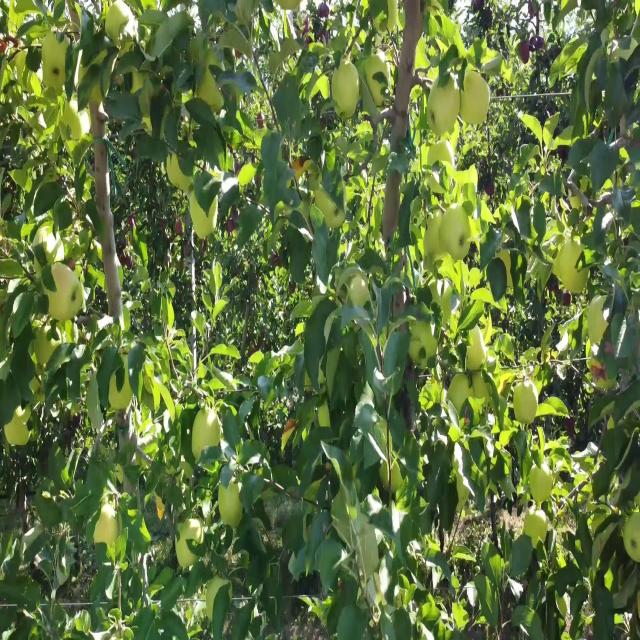apple: (48, 270, 84, 322), (460, 71, 491, 126), (332, 63, 360, 121), (196, 405, 223, 460), (432, 78, 460, 126), (196, 71, 224, 116), (4, 405, 31, 448), (220, 483, 244, 530), (168, 149, 193, 194), (192, 197, 218, 240), (588, 341, 616, 380), (468, 327, 492, 370), (96, 504, 120, 544), (112, 371, 133, 412), (368, 63, 387, 107), (108, 7, 132, 41), (348, 277, 371, 309), (368, 49, 387, 85), (441, 127, 460, 162), (368, 78, 385, 107), (352, 28, 368, 55), (424, 142, 437, 171), (64, 319, 76, 347), (192, 519, 204, 546), (132, 71, 145, 94), (496, 376, 510, 396), (320, 405, 332, 428), (520, 42, 532, 64), (320, 78, 332, 100), (284, 426, 296, 448), (140, 519, 152, 540), (156, 497, 166, 519), (416, 234, 425, 258), (168, 305, 176, 329), (168, 398, 176, 420), (320, 7, 331, 21), (252, 355, 263, 368), (636, 590, 640, 617), (296, 327, 304, 336)
